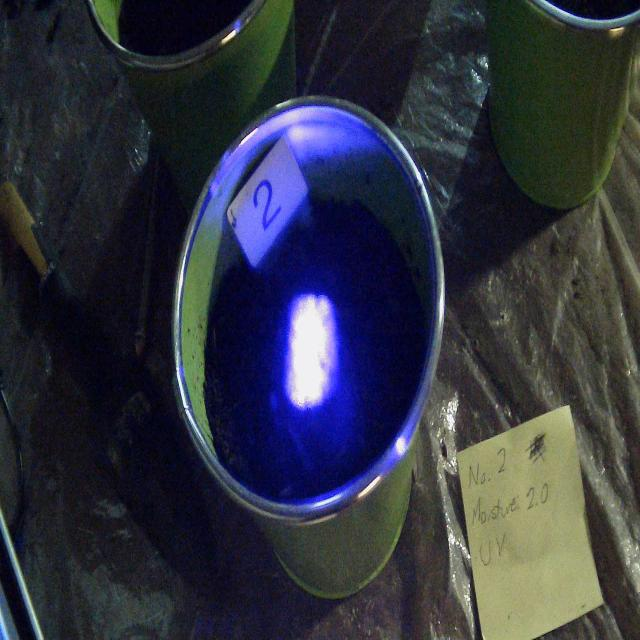soil-moisture-2.0: (284, 294, 338, 408)
